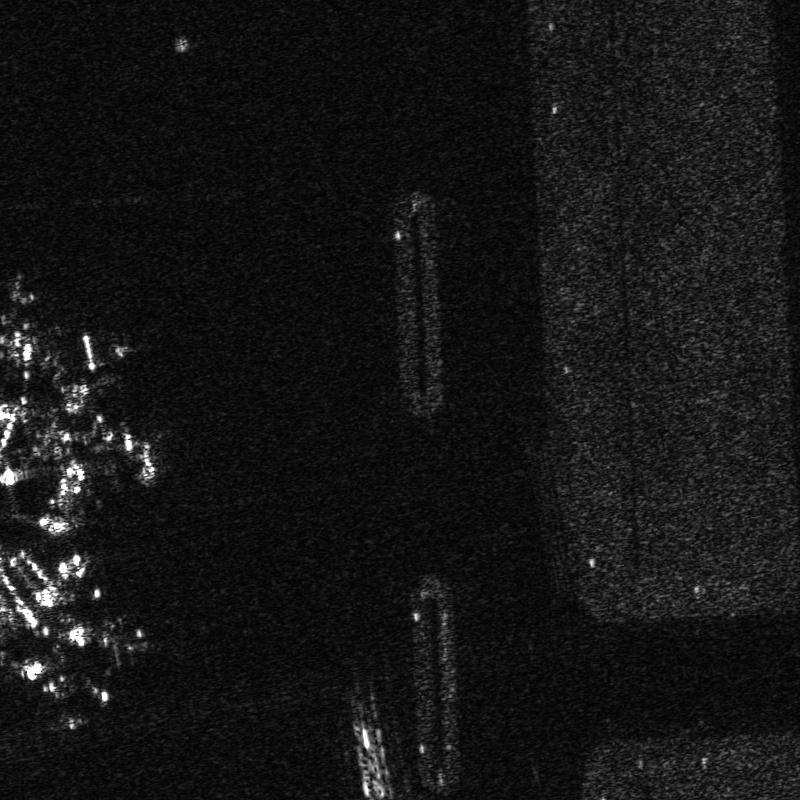A320/321: (59, 611, 152, 672), (1, 269, 50, 376)
Boeing737: (12, 651, 126, 714)
